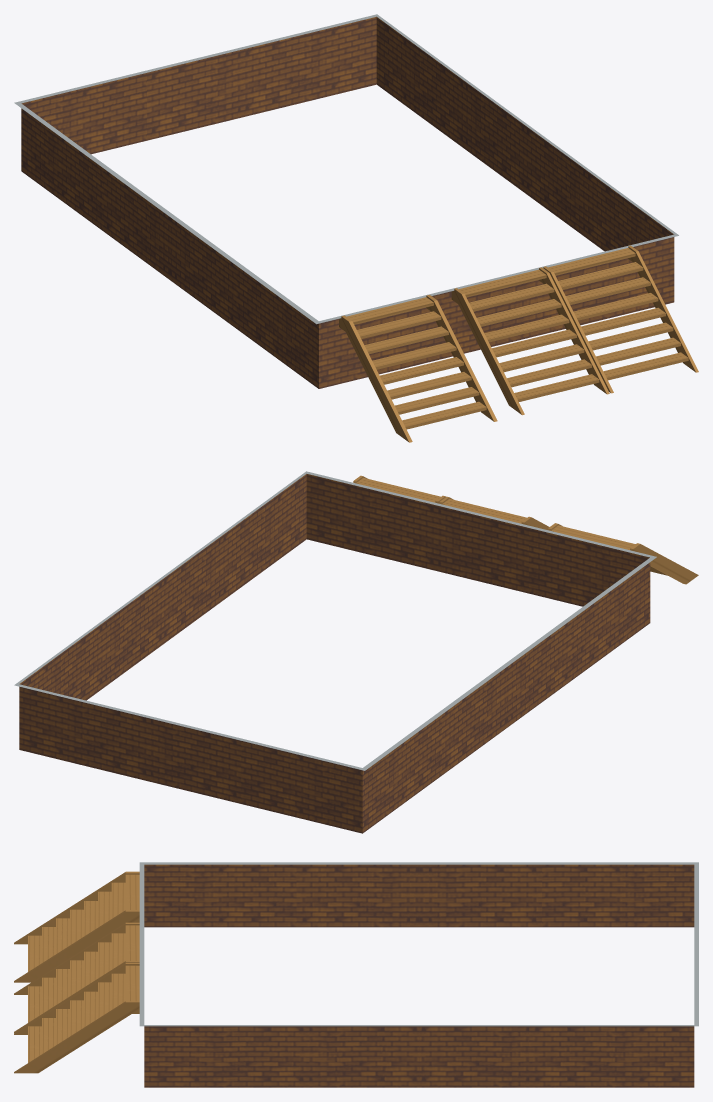
File: ModularVBasementV1.fbx
3 renders of one model, top to bottom at view 1: azimuth 30°, elevation 25°; view 2: azimuth 150°, elevation 25°; view 3: azimuth 270°, elevation 25°, orthographic. The views are drawn at different scales.
Parts seen in each view (by area): view 1: V_House_basement_V1_1, V_House_basement_V2_1 (×2), V_House_basement_V2_2, V_House_basement_V2_3; view 2: V_House_basement_V1_1, V_House_basement_V2_1 (×2), V_House_basement_V2_2; view 3: V_House_basement_V1_1, V_House_basement_V2_1 (×2), V_House_basement_V2_2, V_House_basement_V2_3.
Part boxes in pixels (<box>): V_House_basement_V1_1: <box>14,14,698,393</box>; V_House_basement_V2_1 (×2): <box>343,267,609,442</box>; V_House_basement_V2_2: <box>339,295,496,442</box>; V_House_basement_V2_3: <box>342,304,496,442</box>; V_House_basement_V1_1: <box>14,471,656,833</box>; V_House_basement_V2_1 (×2): <box>439,496,684,583</box>; V_House_basement_V2_2: <box>548,524,698,584</box>; V_House_basement_V1_1: <box>14,862,698,1087</box>; V_House_basement_V2_1 (×2): <box>14,872,139,1033</box>; V_House_basement_V2_2: <box>14,871,139,981</box>; V_House_basement_V2_3: <box>28,872,139,971</box>.
Bounding box in the file's own units: 42.04 × 8.49 × 74.28.
